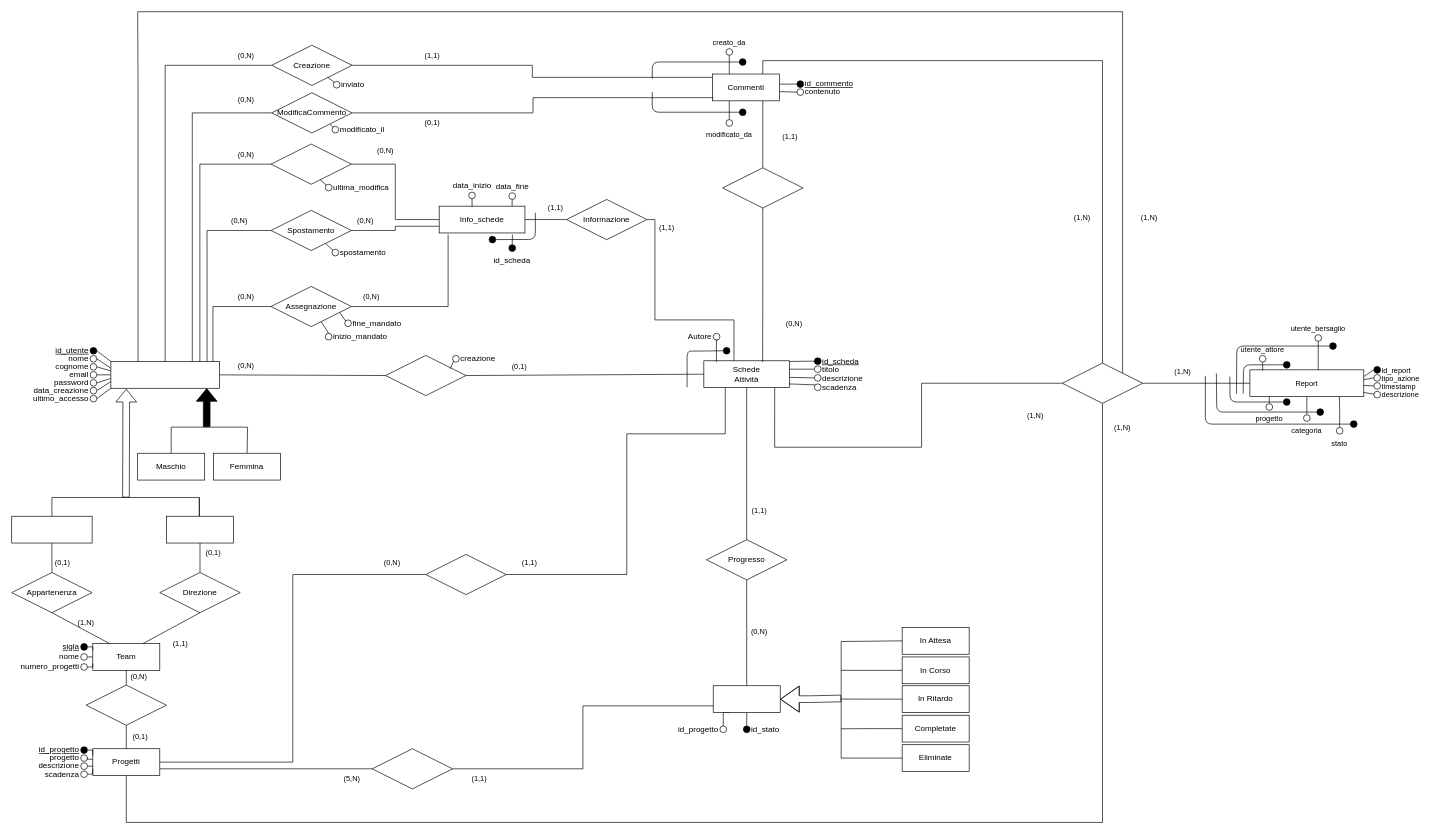
This 1433x835 diagram has some shape labels left out. Each missing label, with the box of its shape:
Capo_Team: (166, 516, 233, 543)
Categorizzazione: (372, 748, 453, 789)
Comunicazione: (722, 167, 803, 208)
CreazioneScheda: (385, 355, 466, 396)
Documentazione: (425, 554, 506, 595)
Generazione: (1062, 362, 1143, 403)
ModificaScheda: (270, 143, 351, 184)
Responsabilità: (85, 684, 166, 725)
Stati: (713, 685, 780, 713)
Utente: (110, 361, 219, 388)
Utente_Partecipante: (11, 516, 92, 543)
